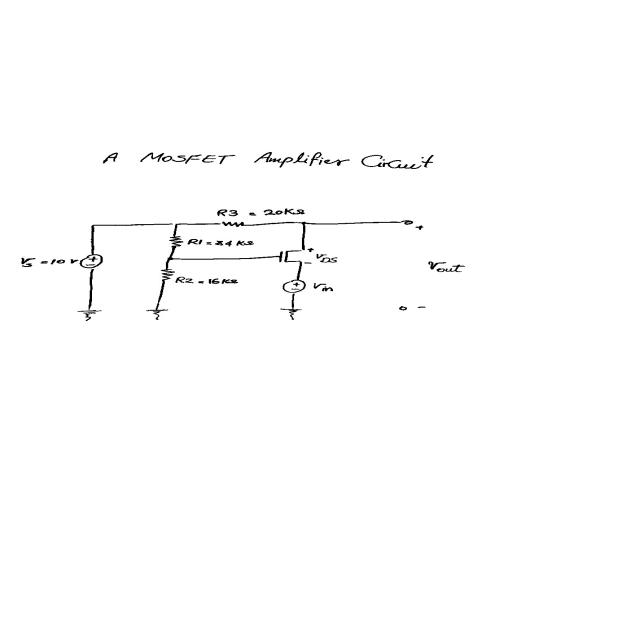ground: (76, 309, 103, 322), (144, 308, 170, 321), (279, 307, 303, 321)
junction: (166, 256, 176, 261), (170, 222, 180, 226), (299, 221, 309, 225), (90, 223, 97, 227)
resistor: (168, 235, 185, 249), (160, 268, 176, 282), (217, 221, 247, 228)
source: (281, 279, 308, 294), (79, 254, 104, 270)
terminal: (397, 220, 414, 225), (398, 305, 409, 311)
text: (101, 150, 435, 170), (216, 208, 306, 217), (20, 257, 79, 268), (186, 238, 255, 247), (174, 276, 239, 284), (427, 261, 467, 273), (314, 253, 339, 263), (312, 282, 335, 292), (416, 305, 428, 309), (306, 247, 315, 252), (415, 225, 424, 230), (303, 261, 314, 265)
transistor: (277, 248, 306, 263)
